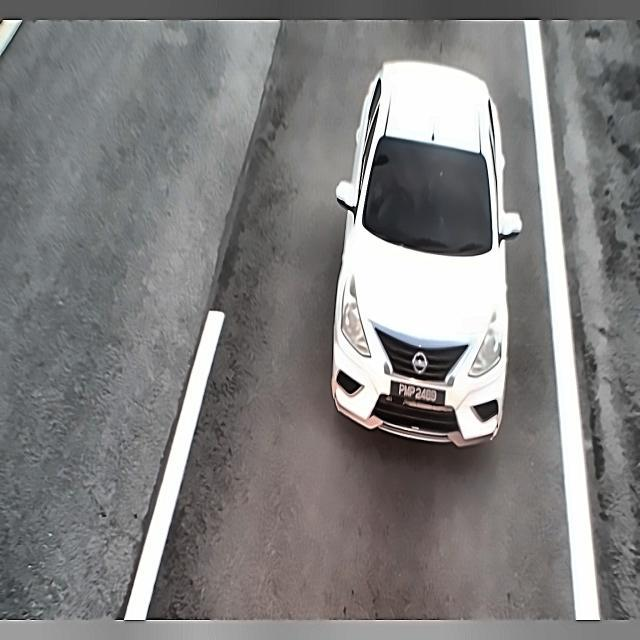car: (386, 374, 449, 411)
